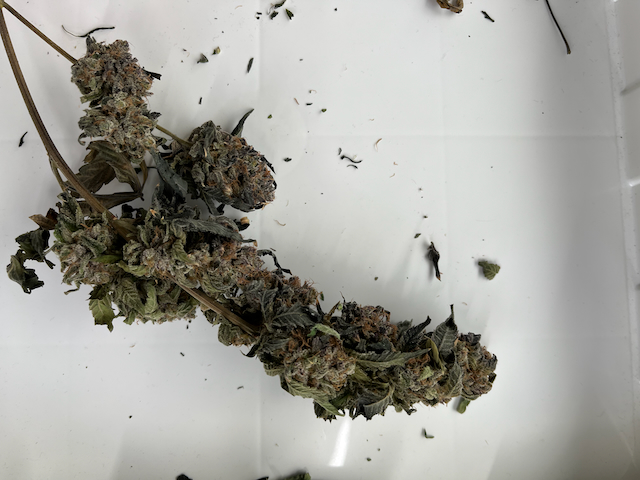Bud: (71, 38, 159, 161), (384, 322, 496, 407), (190, 128, 275, 213), (49, 200, 119, 286), (286, 334, 354, 403), (193, 243, 262, 299), (140, 213, 191, 285)
Leaf: (262, 302, 322, 328), (359, 385, 396, 423), (432, 301, 455, 362), (84, 300, 121, 328), (140, 287, 163, 317)
Stem: (0, 0, 50, 189), (2, 8, 87, 57)
